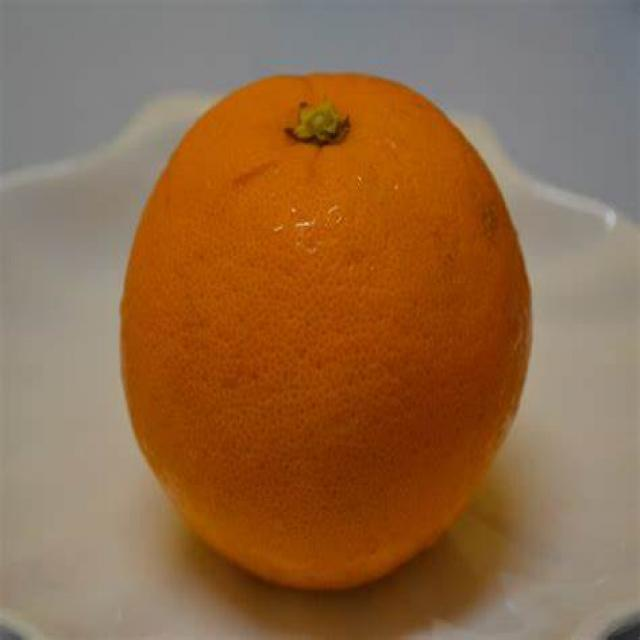Orange: (125, 70, 537, 586)
